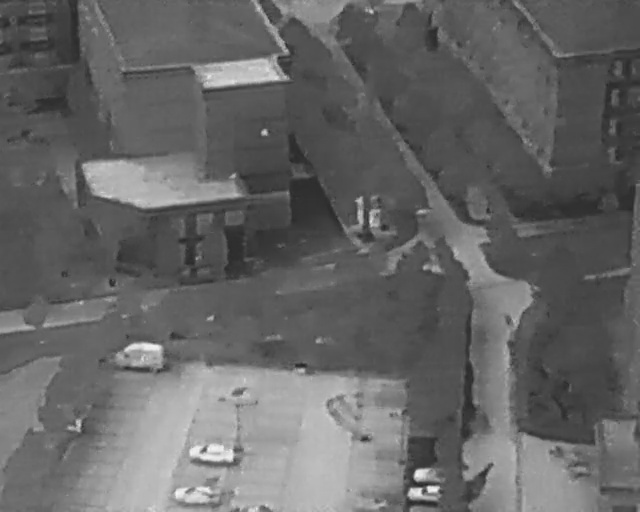Car: (112, 341, 165, 371), (187, 437, 236, 467), (173, 485, 220, 506), (406, 485, 448, 503), (411, 466, 448, 484)
